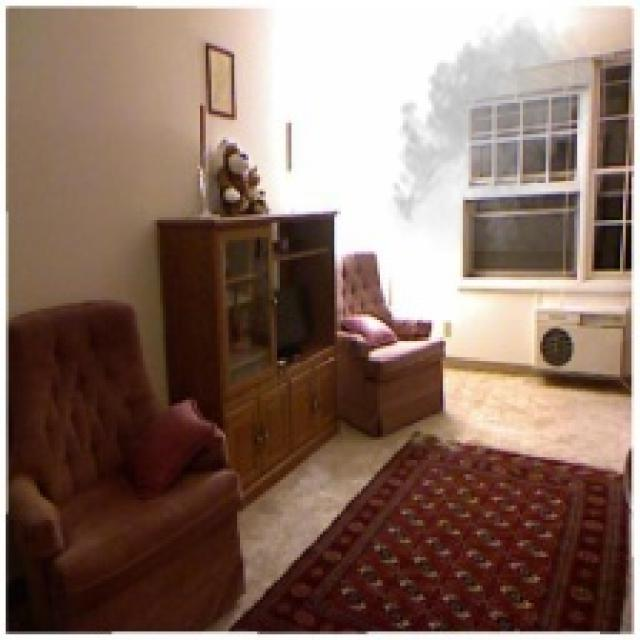smoke: (386, 8, 603, 252)
